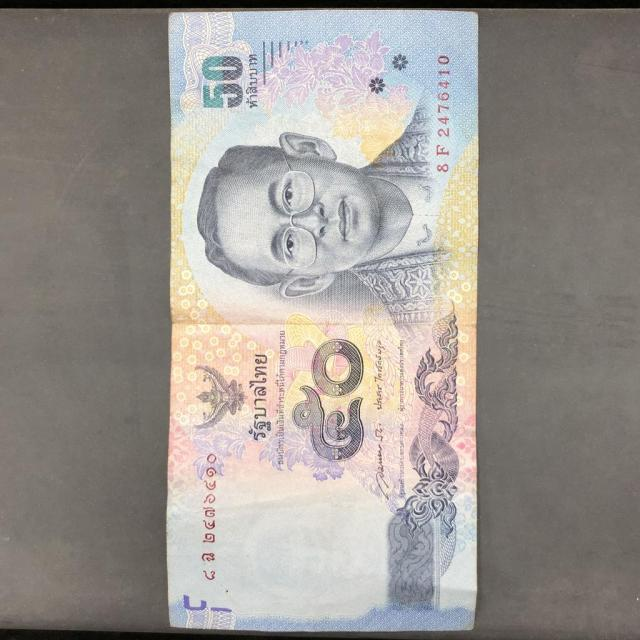THAI50: (162, 9, 479, 636)
